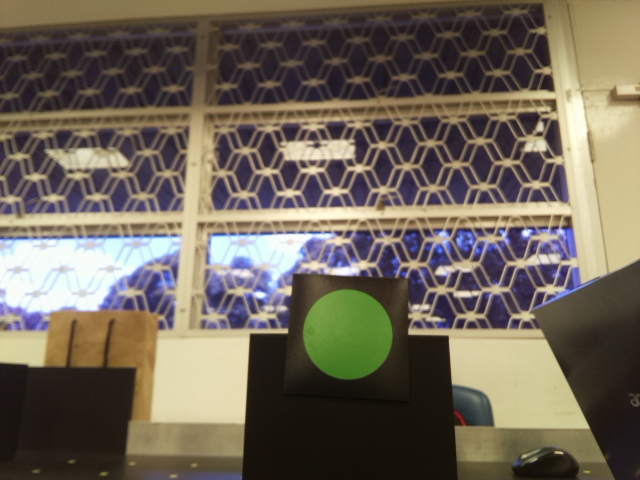go: (296, 283, 403, 385)
